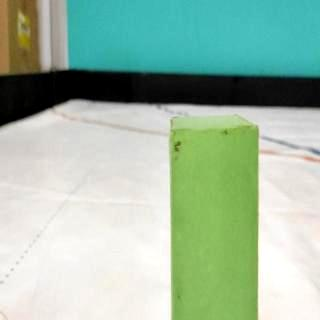greenbox: (170, 116, 260, 320)
